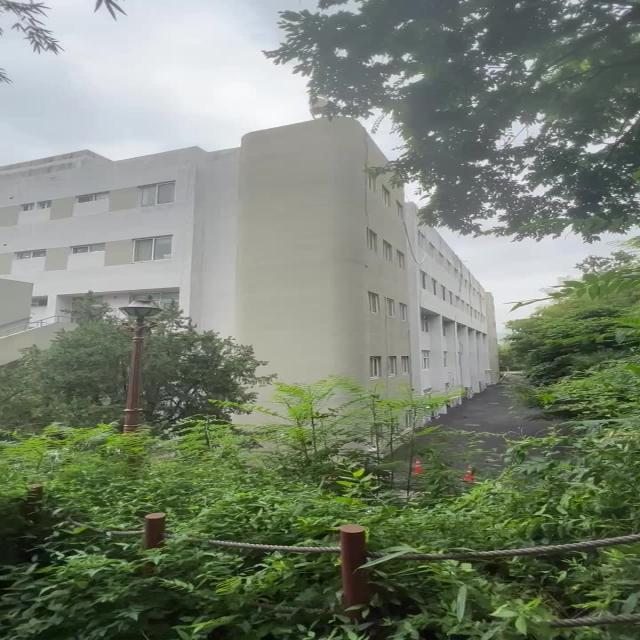building: (16, 128, 395, 334)
